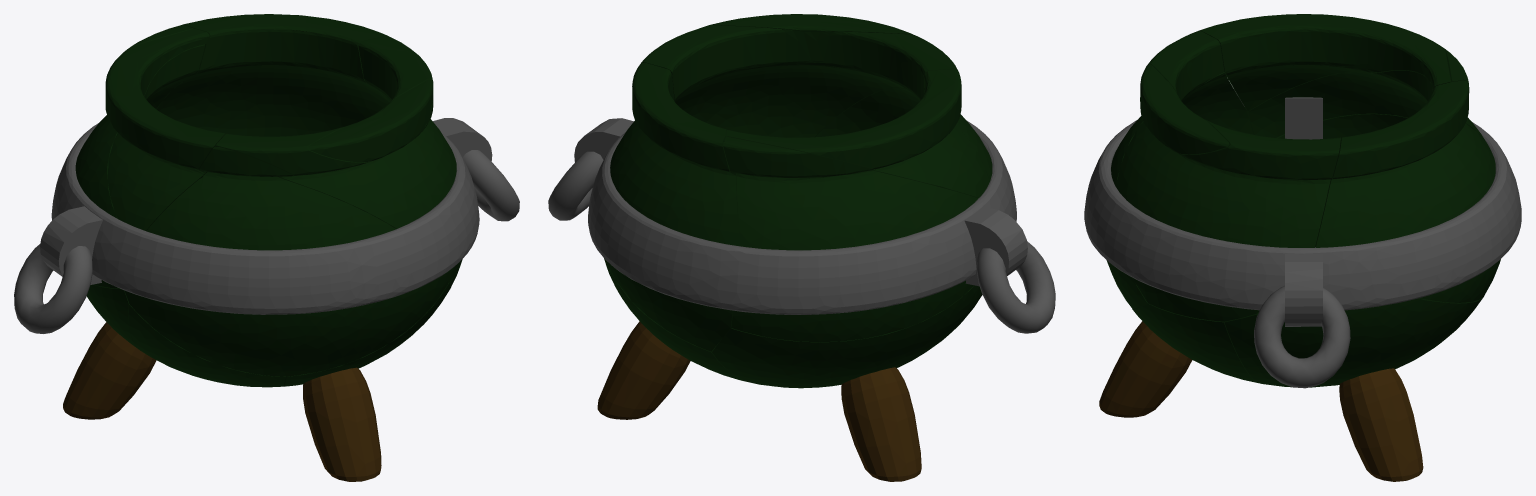
File: cauldron_empty 1.fbx
3 views of the same model, side by side, from view 1: azimuth 30°, elevation 25°; view 2: azimuth 150°, elevation 25°; view 3: azimuth 270°, elevation 25° (orthographic).
Visible parts, largest first — view 1: cauldron; view 2: cauldron; view 3: cauldron.
Part boxes in pixels (left/top/right/bottom): cauldron: left=14, top=14, right=519, bottom=481; cauldron: left=548, top=14, right=1055, bottom=481; cauldron: left=1084, top=14, right=1521, bottom=481.
Bounding box in the file's own units: 132 × 84.13 × 102.
